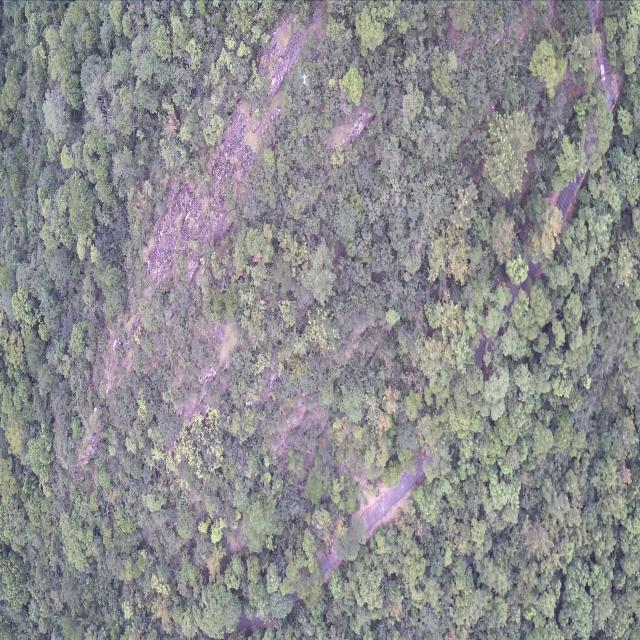drone: (300, 74, 308, 86)
